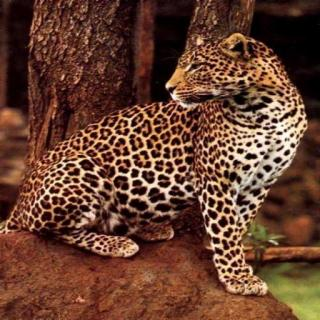Leopard: (27, 24, 320, 299)
